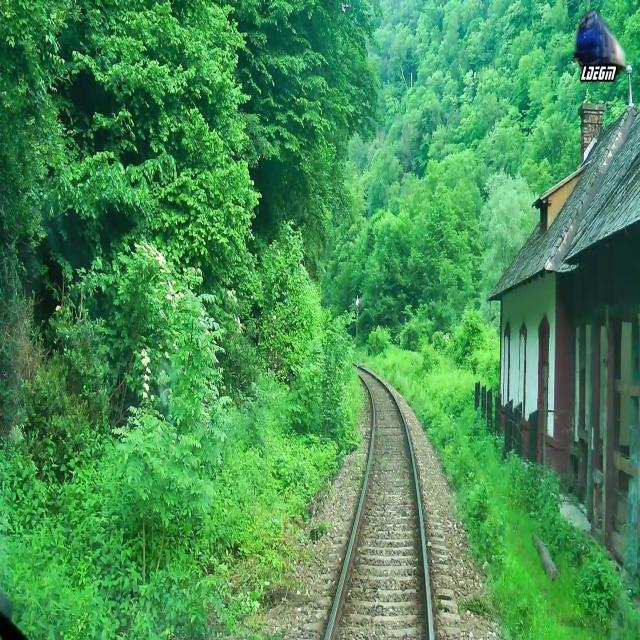rail-track: (330, 369, 428, 639)
